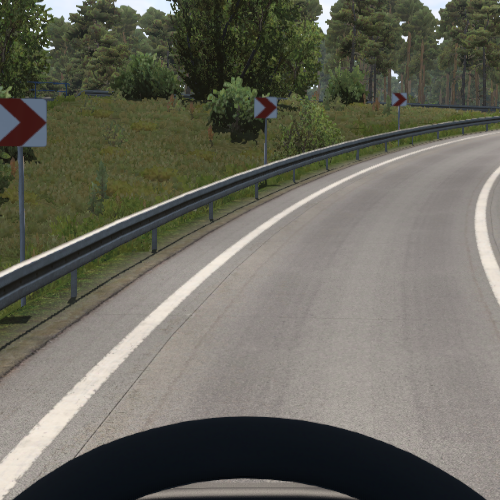markup_line: (0, 142, 456, 500), (472, 162, 500, 311)
